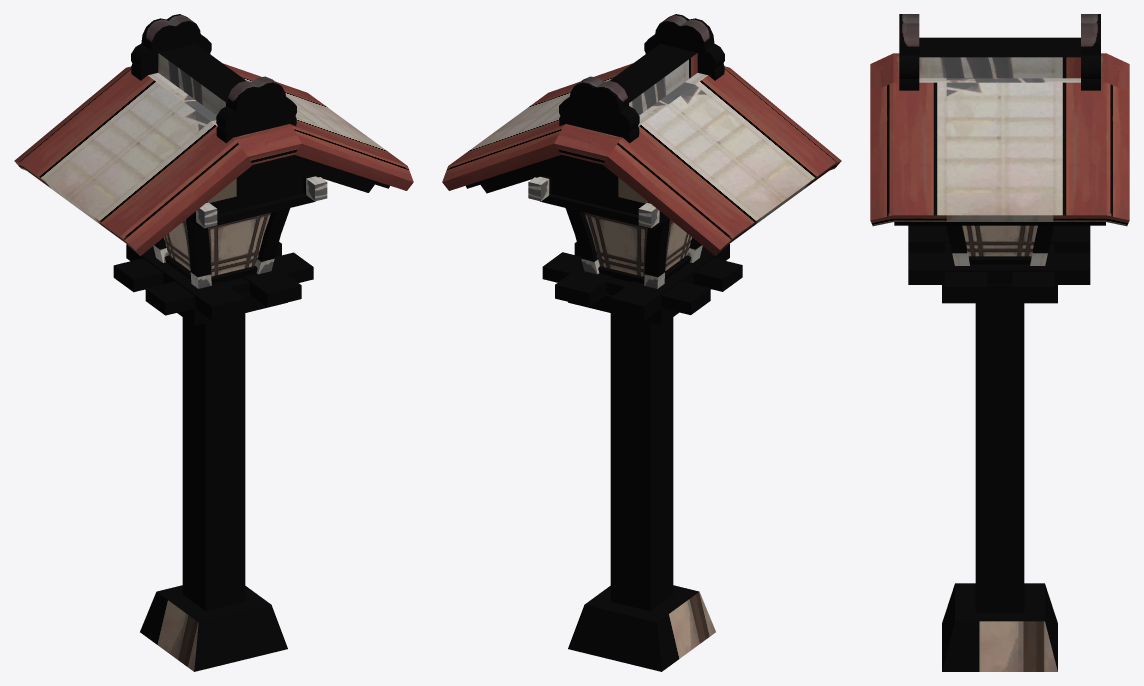
Rendered from Homeworld_Exterior_Dq_Lamp_DasheLamp_02_Lod0.fbx.
The picture shows the model from 3 angles, left to right: view 1: azimuth 30°, elevation 25°; view 2: azimuth 150°, elevation 25°; view 3: azimuth 270°, elevation 25°; orthographic projection. The views are drawn at different scales.
Parts seen in each view (by area): view 1: Area_Dq_Light_MS_DasheLamp_02_Lod0; view 2: Area_Dq_Light_MS_DasheLamp_02_Lod0; view 3: Area_Dq_Light_MS_DasheLamp_02_Lod0.
Part boxes in pixels (box(x1,y1,x2,y2)): Area_Dq_Light_MS_DasheLamp_02_Lod0: box(14, 14, 413, 671); Area_Dq_Light_MS_DasheLamp_02_Lod0: box(442, 14, 841, 671); Area_Dq_Light_MS_DasheLamp_02_Lod0: box(870, 14, 1129, 671).
Bounding box in the file's own units: 1.13 × 2.21 × 0.8302.
